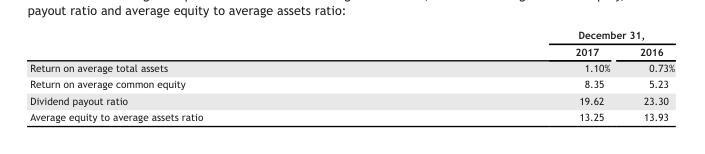table: (29, 28, 674, 122)
table column: (29, 28, 388, 122), (388, 28, 624, 122), (624, 28, 674, 122)
table column header: (29, 28, 674, 59)
table row: (29, 42, 674, 59), (29, 75, 674, 92), (29, 59, 674, 75), (29, 92, 674, 108), (29, 28, 674, 42), (29, 108, 674, 122)
table spanning cell: (388, 28, 674, 42)
